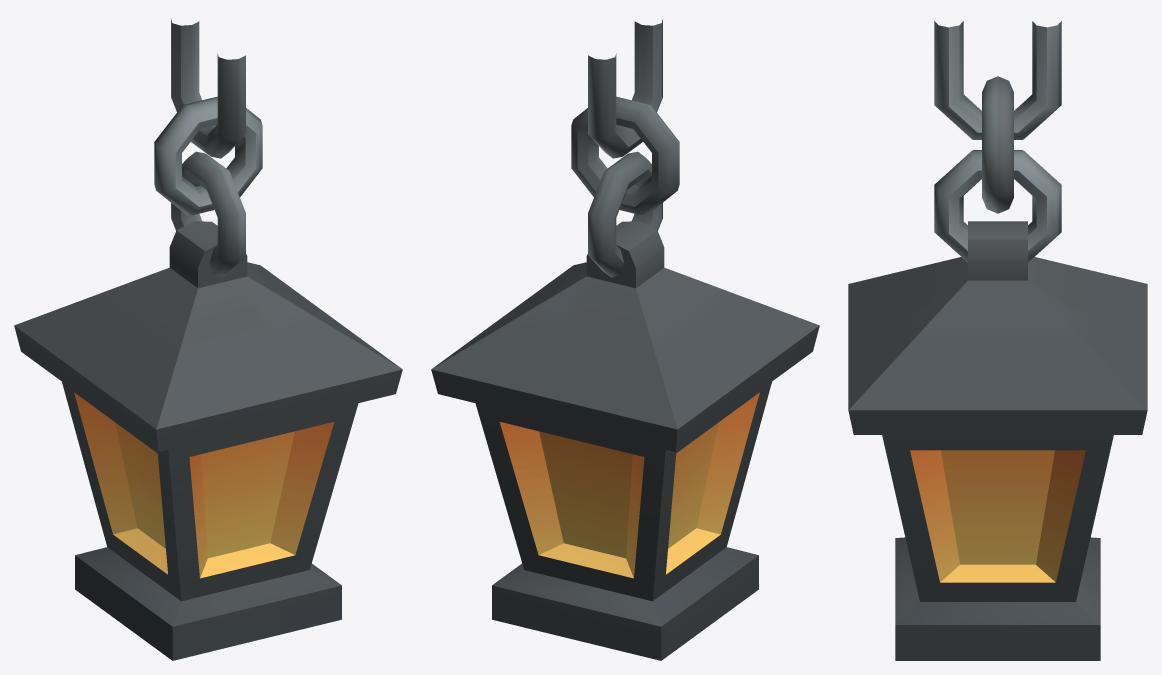
File: kay-lanterna-pendurada.gltf
3 views of the same model, side by side, from view 1: azimuth 30°, elevation 25°; view 2: azimuth 150°, elevation 25°; view 3: azimuth 270°, elevation 25° (orthographic). The views are drawn at different scales.
Parts seen in each view (by area): view 1: lantern_hanging; view 2: lantern_hanging; view 3: lantern_hanging.
Part boxes in pixels (bbox=[...]): lantern_hanging: bbox=[14, 19, 402, 660]; lantern_hanging: bbox=[431, 19, 819, 660]; lantern_hanging: bbox=[848, 21, 1147, 660].
Bounding box in the file's own units: 0.32 × 0.7043 × 0.32.
Materials: 1 (1 with a texture image).
